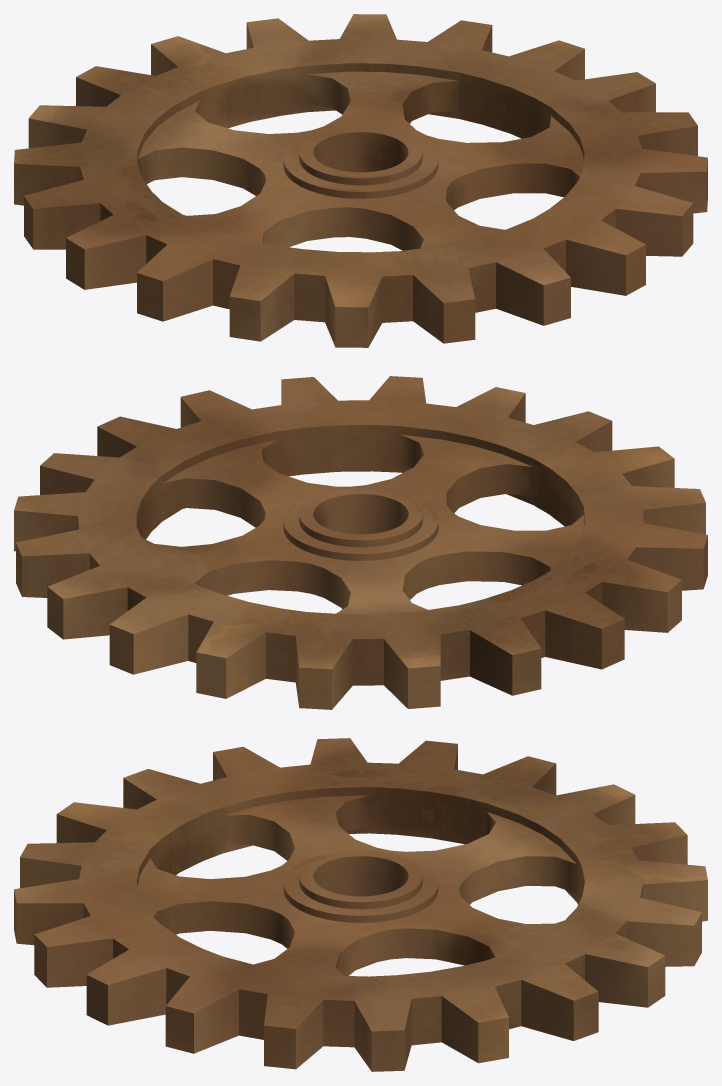
Rendered from ког_после_блендера.glb.
3 views of the same model, one above another, from view 1: azimuth 30°, elevation 25°; view 2: azimuth 150°, elevation 25°; view 3: azimuth 270°, elevation 25° (orthographic).
Visible parts, largest first — view 1: 2.1_2.1_0; view 2: 2.1_2.1_0; view 3: 2.1_2.1_0.
Boxes of the visible parts, x1,y1,x2,y2 form: 2.1_2.1_0: [14, 14, 707, 347]; 2.1_2.1_0: [14, 376, 707, 709]; 2.1_2.1_0: [14, 738, 707, 1071].
Bounding box in the file's own units: 0.6882 × 0.0628 × 0.6882.
Materials: 1 (1 with a texture image).
